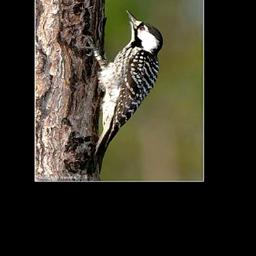Woodpecker: (76, 10, 164, 176)
